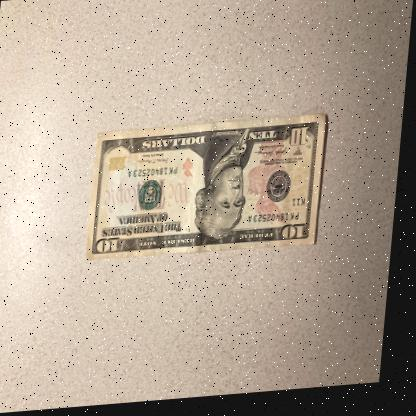ten-front: (88, 116, 329, 264)
